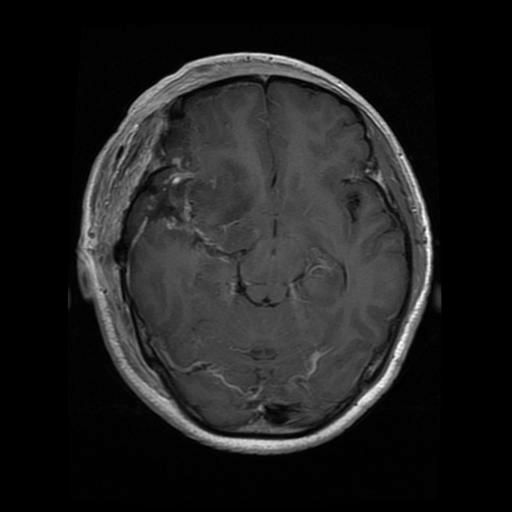Tumour-Glioma: (141, 150, 238, 252)
